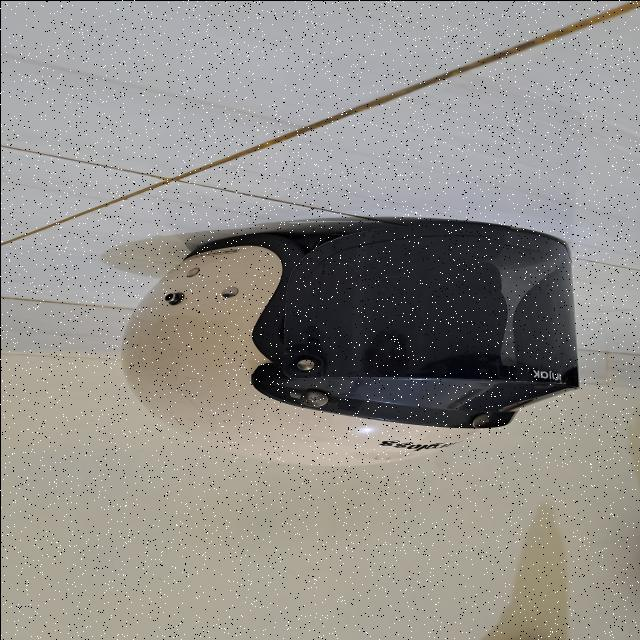Helmet: (122, 222, 578, 465)
